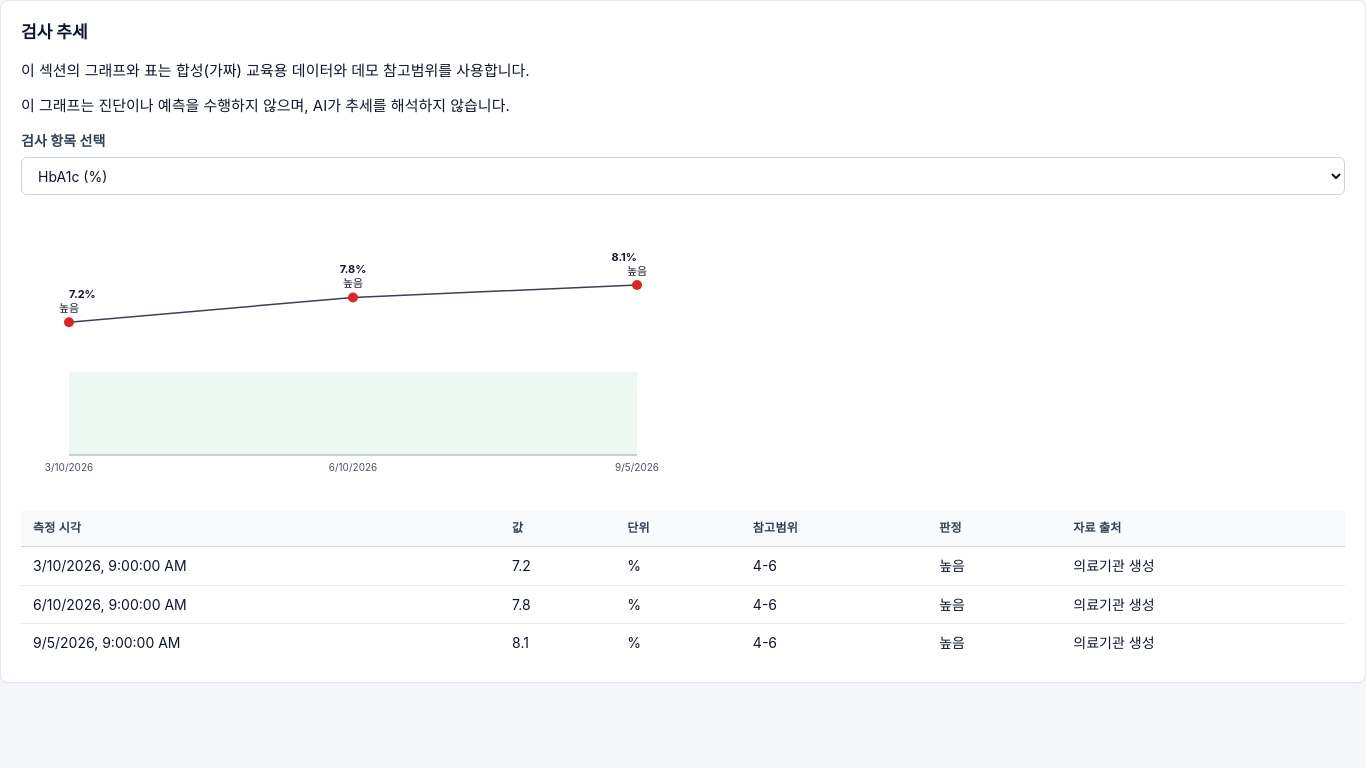
Test: LabTrendSection › lets the doctor switch between test items via the select
Expected: the table is shown, [21,511,1345,662]
Select "Fasting Glucose (mg/dL)" in the dropdown at {"x": 683, "y": 176}, box [21,157,1345,195]
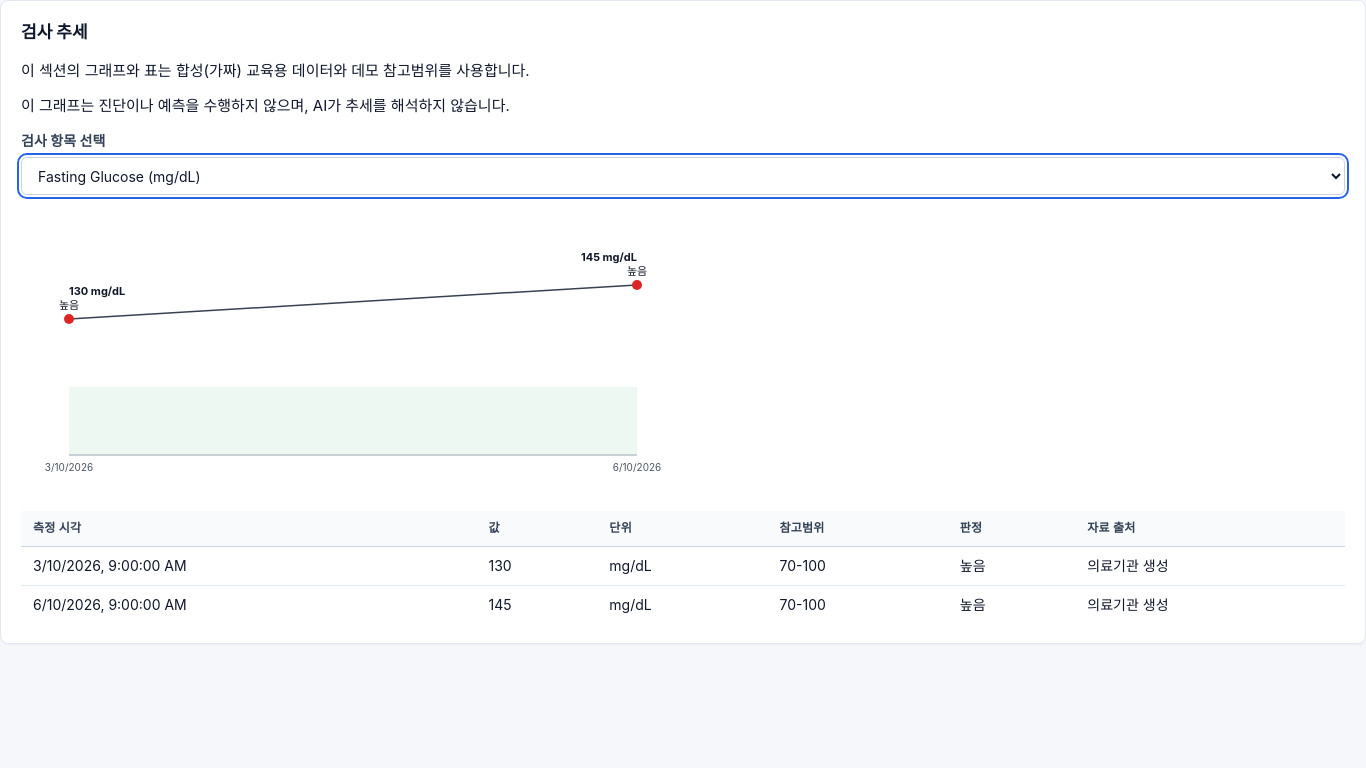
Now the text "130" is shown, box [476,546,597,585]
Now the text "145" is shown, box [476,585,597,623]
Now the picture "7.2" is gone
